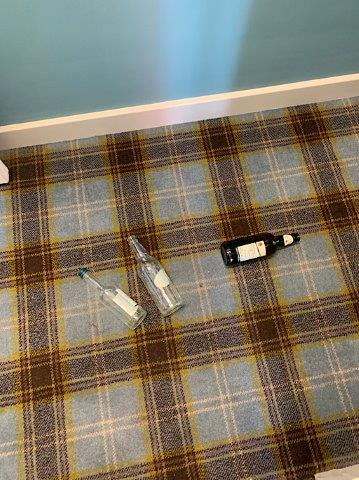botolkaca: (128, 235, 183, 314), (79, 268, 146, 328), (222, 233, 300, 266)
